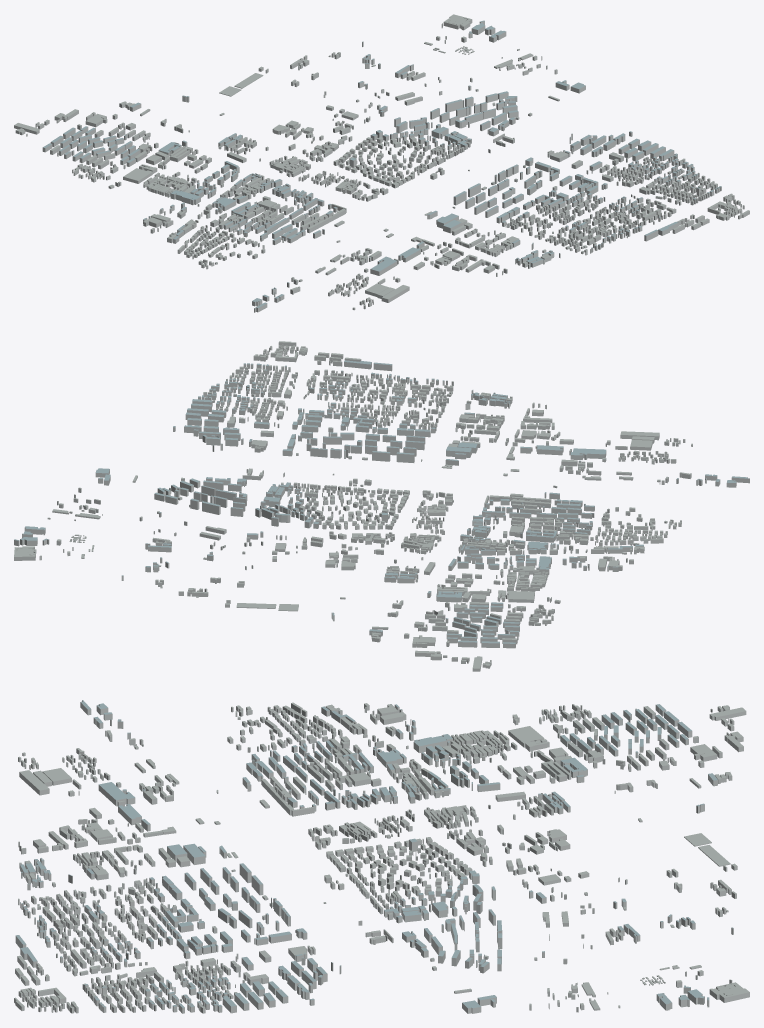
File: far.glb
The picture shows the model from 3 angles, top to bottom: view 1: azimuth 30°, elevation 25°; view 2: azimuth 150°, elevation 25°; view 3: azimuth 270°, elevation 25°; orthographic projection. The views are drawn at different scales.
Bounding box in the file's own units: 2130 × 35.3 × 2149.
